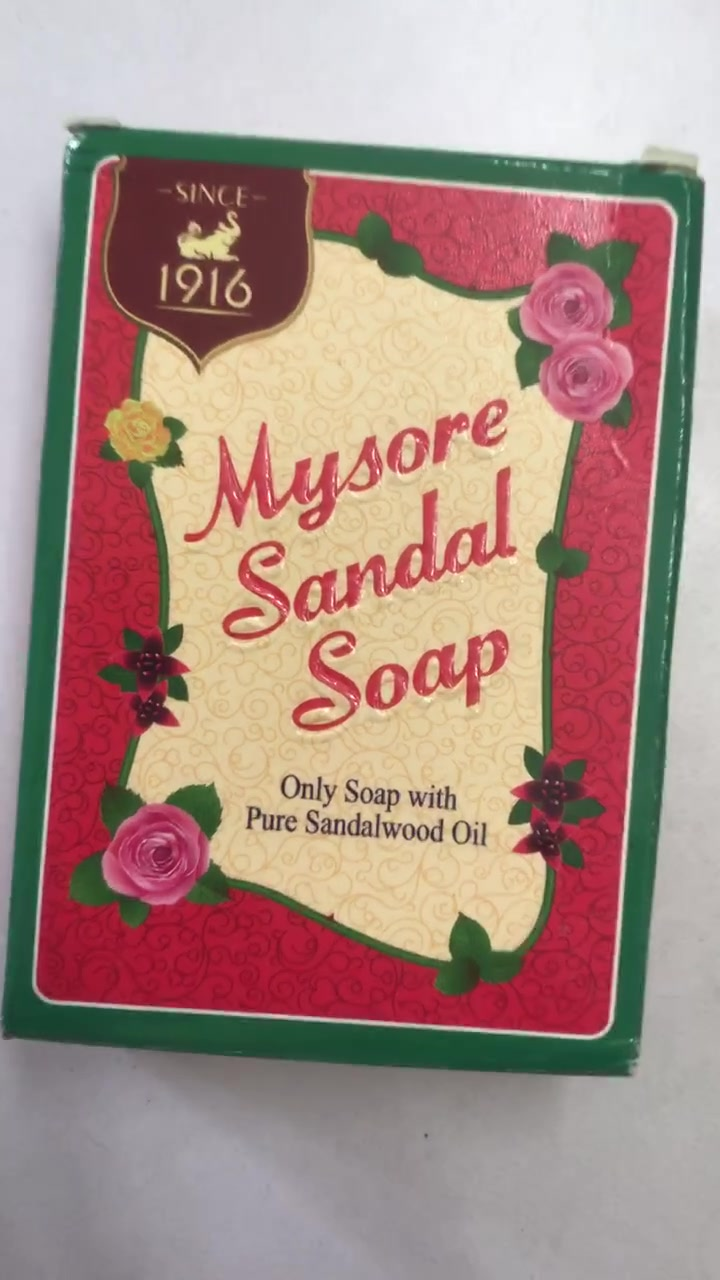mysore sandal soap: (23, 113, 705, 1080)
